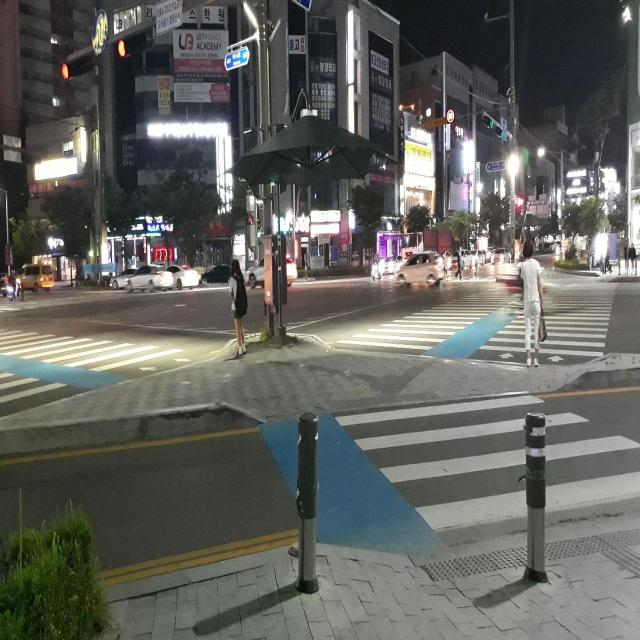횡단보도: (332, 388, 640, 534), (337, 272, 623, 363), (0, 330, 180, 418)
